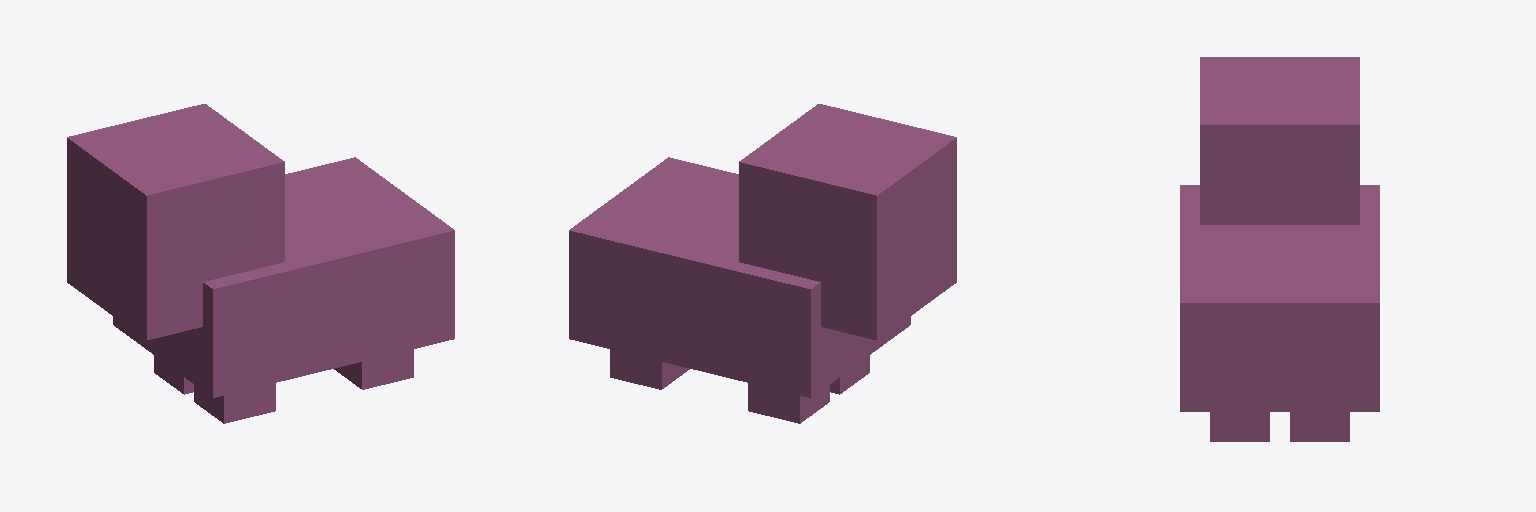
Rendered from Pig.obj.
The picture shows the model from 3 angles: view 1: azimuth 30°, elevation 25°; view 2: azimuth 150°, elevation 25°; view 3: azimuth 270°, elevation 25°; orthographic projection.
Visible parts, largest first — view 1: Cube.004_Cube.009, Cube.005_Cube.010, Cube.001_Cube.006, Cube.002_Cube.007, Cube_Cube.005; view 2: Cube.004_Cube.009, Cube.005_Cube.010, Cube_Cube.005, Cube.003_Cube.008, Cube.001_Cube.006; view 3: Cube.004_Cube.009, Cube.005_Cube.010, Cube.002_Cube.007, Cube.003_Cube.008.
Part boxes in pixels (bbox=[...]): Cube.004_Cube.009: bbox=[113, 157, 454, 397]; Cube.005_Cube.010: bbox=[67, 104, 284, 340]; Cube.001_Cube.006: bbox=[194, 383, 275, 423]; Cube.002_Cube.007: bbox=[334, 349, 413, 389]; Cube_Cube.005: bbox=[154, 355, 193, 394]; Cube.004_Cube.009: bbox=[569, 157, 910, 397]; Cube.005_Cube.010: bbox=[739, 104, 956, 340]; Cube_Cube.005: bbox=[748, 383, 829, 423]; Cube.003_Cube.008: bbox=[610, 349, 689, 389]; Cube.001_Cube.006: bbox=[830, 355, 869, 394]; Cube.004_Cube.009: bbox=[1180, 185, 1379, 411]; Cube.005_Cube.010: bbox=[1200, 57, 1359, 224]; Cube.002_Cube.007: bbox=[1210, 412, 1269, 441]; Cube.003_Cube.008: bbox=[1290, 412, 1349, 441].
Bounding box in the file's own units: 1.73 × 1.39 × 1.